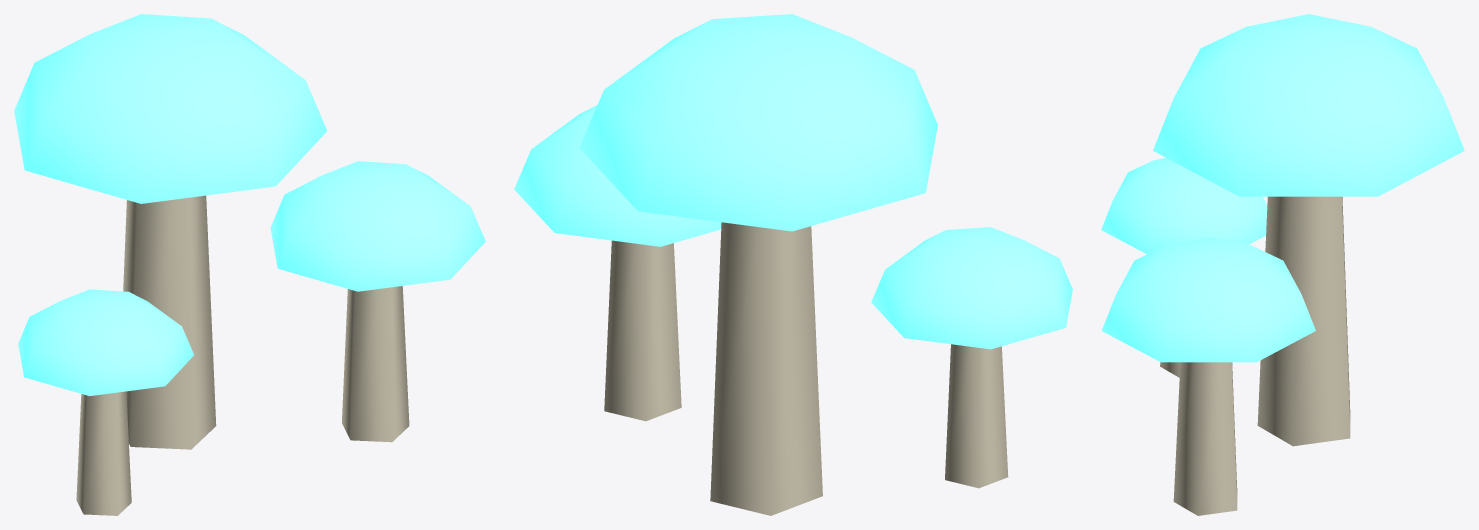
File: stage1_mushroom_glow.glb
3 views of the same model, side by side, from view 1: azimuth 30°, elevation 25°; view 2: azimuth 150°, elevation 25°; view 3: azimuth 270°, elevation 25° (orthographic). The views are drawn at different scales.
Visible parts, largest first — view 1: glow_capGlow, stage1_mushroom_glow_stem; view 2: glow_capGlow, stage1_mushroom_glow_stem; view 3: glow_capGlow, stage1_mushroom_glow_stem.
Boxes of the visible parts, x1,y1,x2,y2 form: glow_capGlow: (14, 14, 485, 396); stage1_mushroom_glow_stem: (76, 195, 409, 515); glow_capGlow: (514, 14, 1072, 349); stage1_mushroom_glow_stem: (604, 222, 1008, 515); glow_capGlow: (1101, 14, 1464, 362); stage1_mushroom_glow_stem: (1160, 196, 1350, 515).
Bounding box in the file's own units: 0.5091 × 0.432 × 0.3637.
